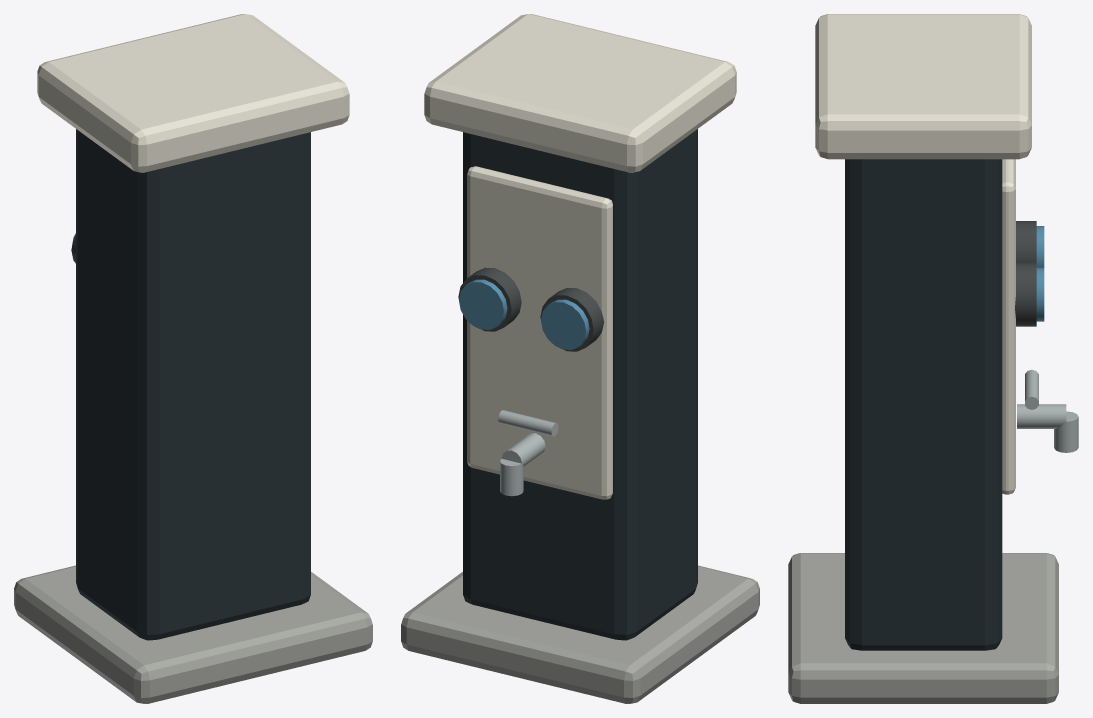
Rendered from dock_service_pedestal.glb.
The picture shows the model from 3 angles, left to right: view 1: azimuth 30°, elevation 25°; view 2: azimuth 150°, elevation 25°; view 3: azimuth 270°, elevation 25°; orthographic projection. The views are drawn at different scales.
Parts seen in each view (by area): view 1: Structure; view 2: Structure; view 3: Structure.
Part boxes in pixels (x1,y1,x2,y2): Structure: (14, 14, 372, 703); Structure: (401, 14, 759, 703); Structure: (788, 14, 1078, 703).
Bounding box in the file's own units: 0.58 × 1.31 × 0.59.
